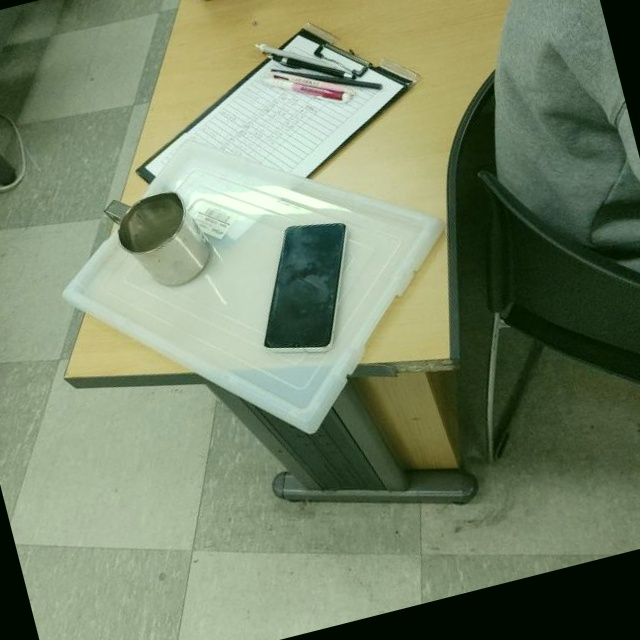cup: (99, 177, 223, 300)
phone: (235, 213, 376, 368)
